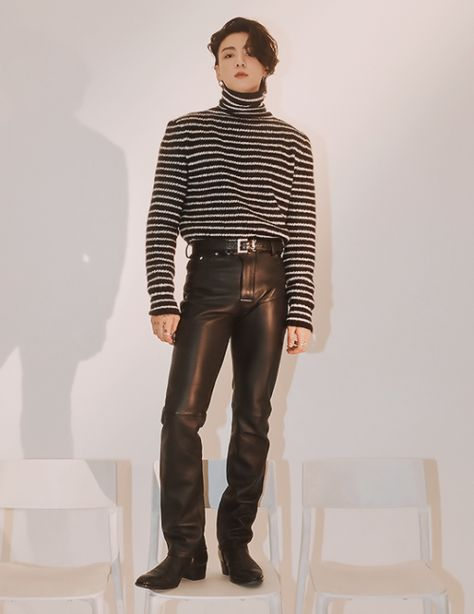person: (128, 12, 343, 601)
